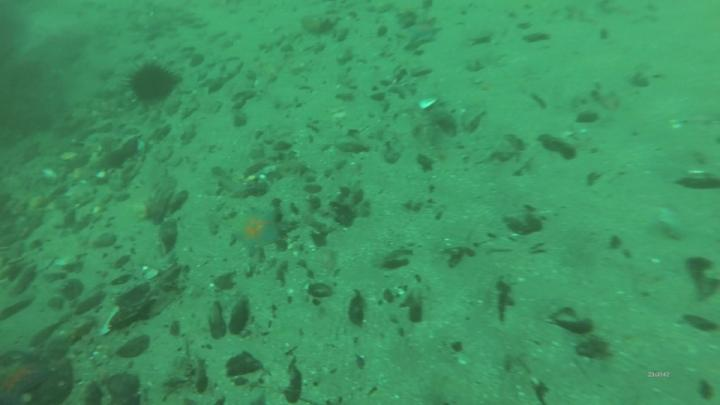echinus: (131, 66, 175, 102)
starfish: (1, 358, 49, 405), (234, 208, 282, 253)
